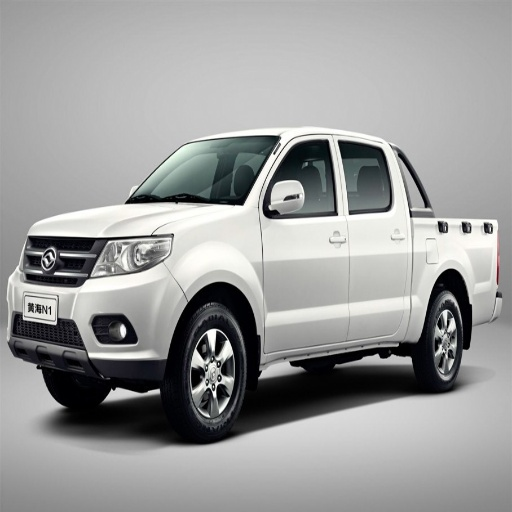back_glass: (335, 136, 411, 335)
back_right_light: (2, 238, 186, 378)
front_bumper: (127, 136, 277, 204)
front_glass: (261, 136, 348, 346)
front_left_door: (91, 232, 173, 278)
front_right_light: (29, 203, 236, 237)
tailgate: (408, 212, 500, 333)
trunk: (162, 303, 250, 440), (416, 289, 466, 391), (47, 373, 105, 412)
